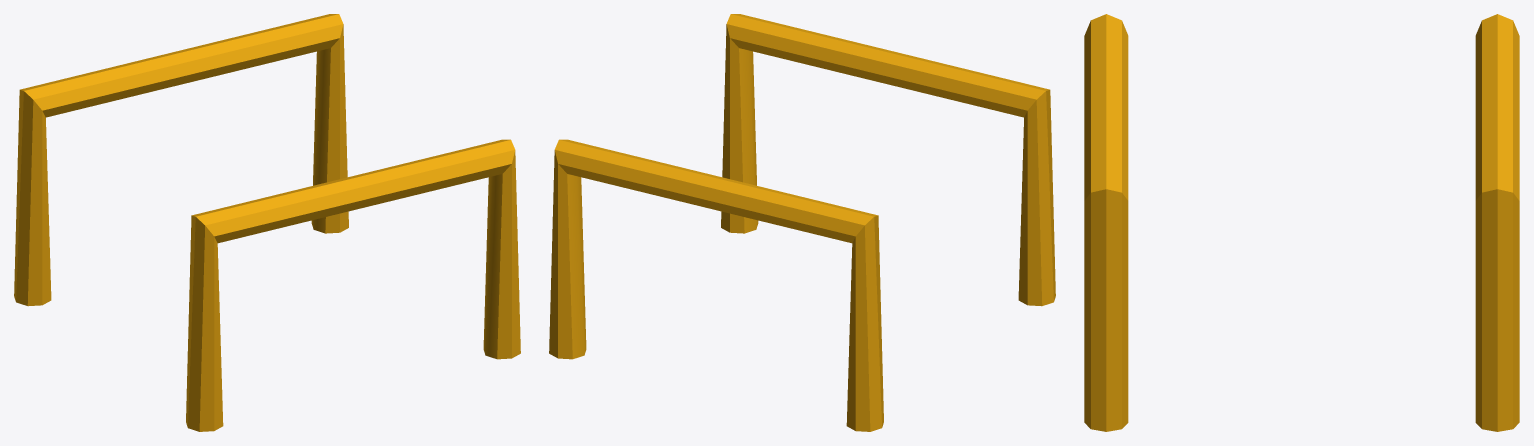
Rendered from industrial.handling.column_guard.glb.
The picture shows the model from 3 angles, left to right: view 1: azimuth 30°, elevation 25°; view 2: azimuth 150°, elevation 25°; view 3: azimuth 270°, elevation 25°; orthographic projection. The views are drawn at different scales.
Parts seen in each view (by area): view 1: main__plant_yellow; view 2: main__plant_yellow; view 3: main__plant_yellow.
Part boxes in pixels (bbox=[...]): main__plant_yellow: bbox=[14, 14, 520, 431]; main__plant_yellow: bbox=[549, 14, 1055, 431]; main__plant_yellow: bbox=[1084, 14, 1519, 431].
Bounding box in the file's own units: 0.89 × 0.5382 × 0.89.
